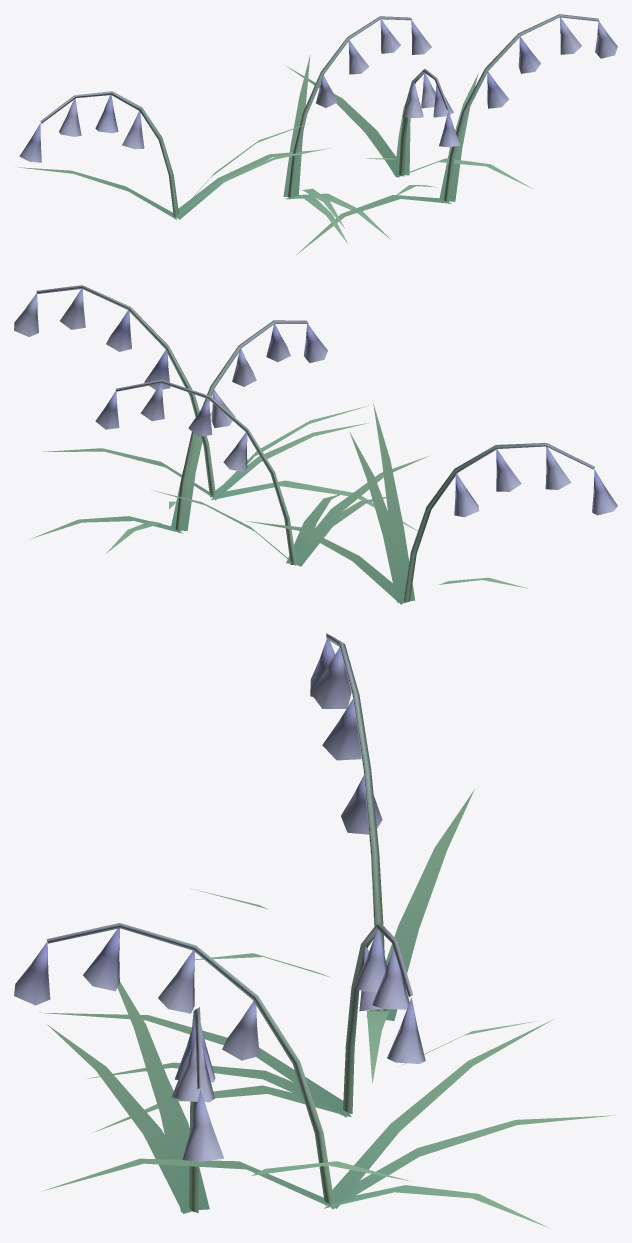
Rendered from bluebell_patch_b_mid.glb.
3 views of the same model, one above another, from view 1: azimuth 30°, elevation 25°; view 2: azimuth 150°, elevation 25°; view 3: azimuth 270°, elevation 25° (orthographic). The views are drawn at different scales.
Parts seen in each view (by area): view 1: soft; view 2: soft; view 3: soft.
Boxes of the visible parts, left/top/right/bottom form: soft: left=18, top=14, right=617, bottom=254; soft: left=14, top=285, right=617, bottom=604; soft: left=14, top=633, right=615, bottom=1227.
Bounding box in the file's own units: 1.63 × 0.4495 × 0.853.
